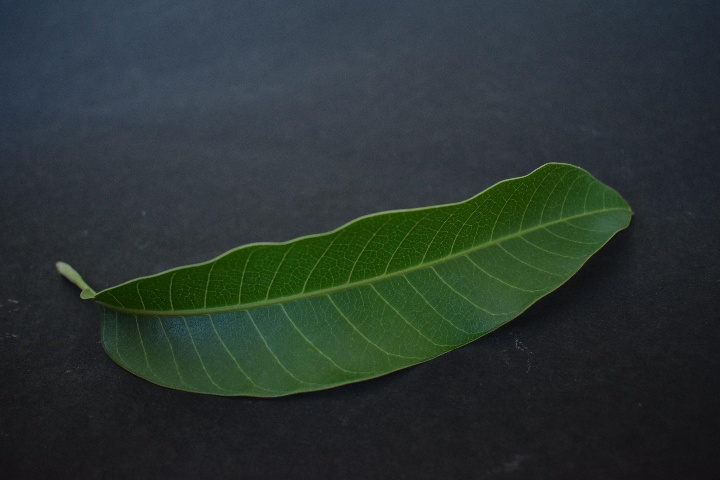healthy: (75, 167, 634, 394)
